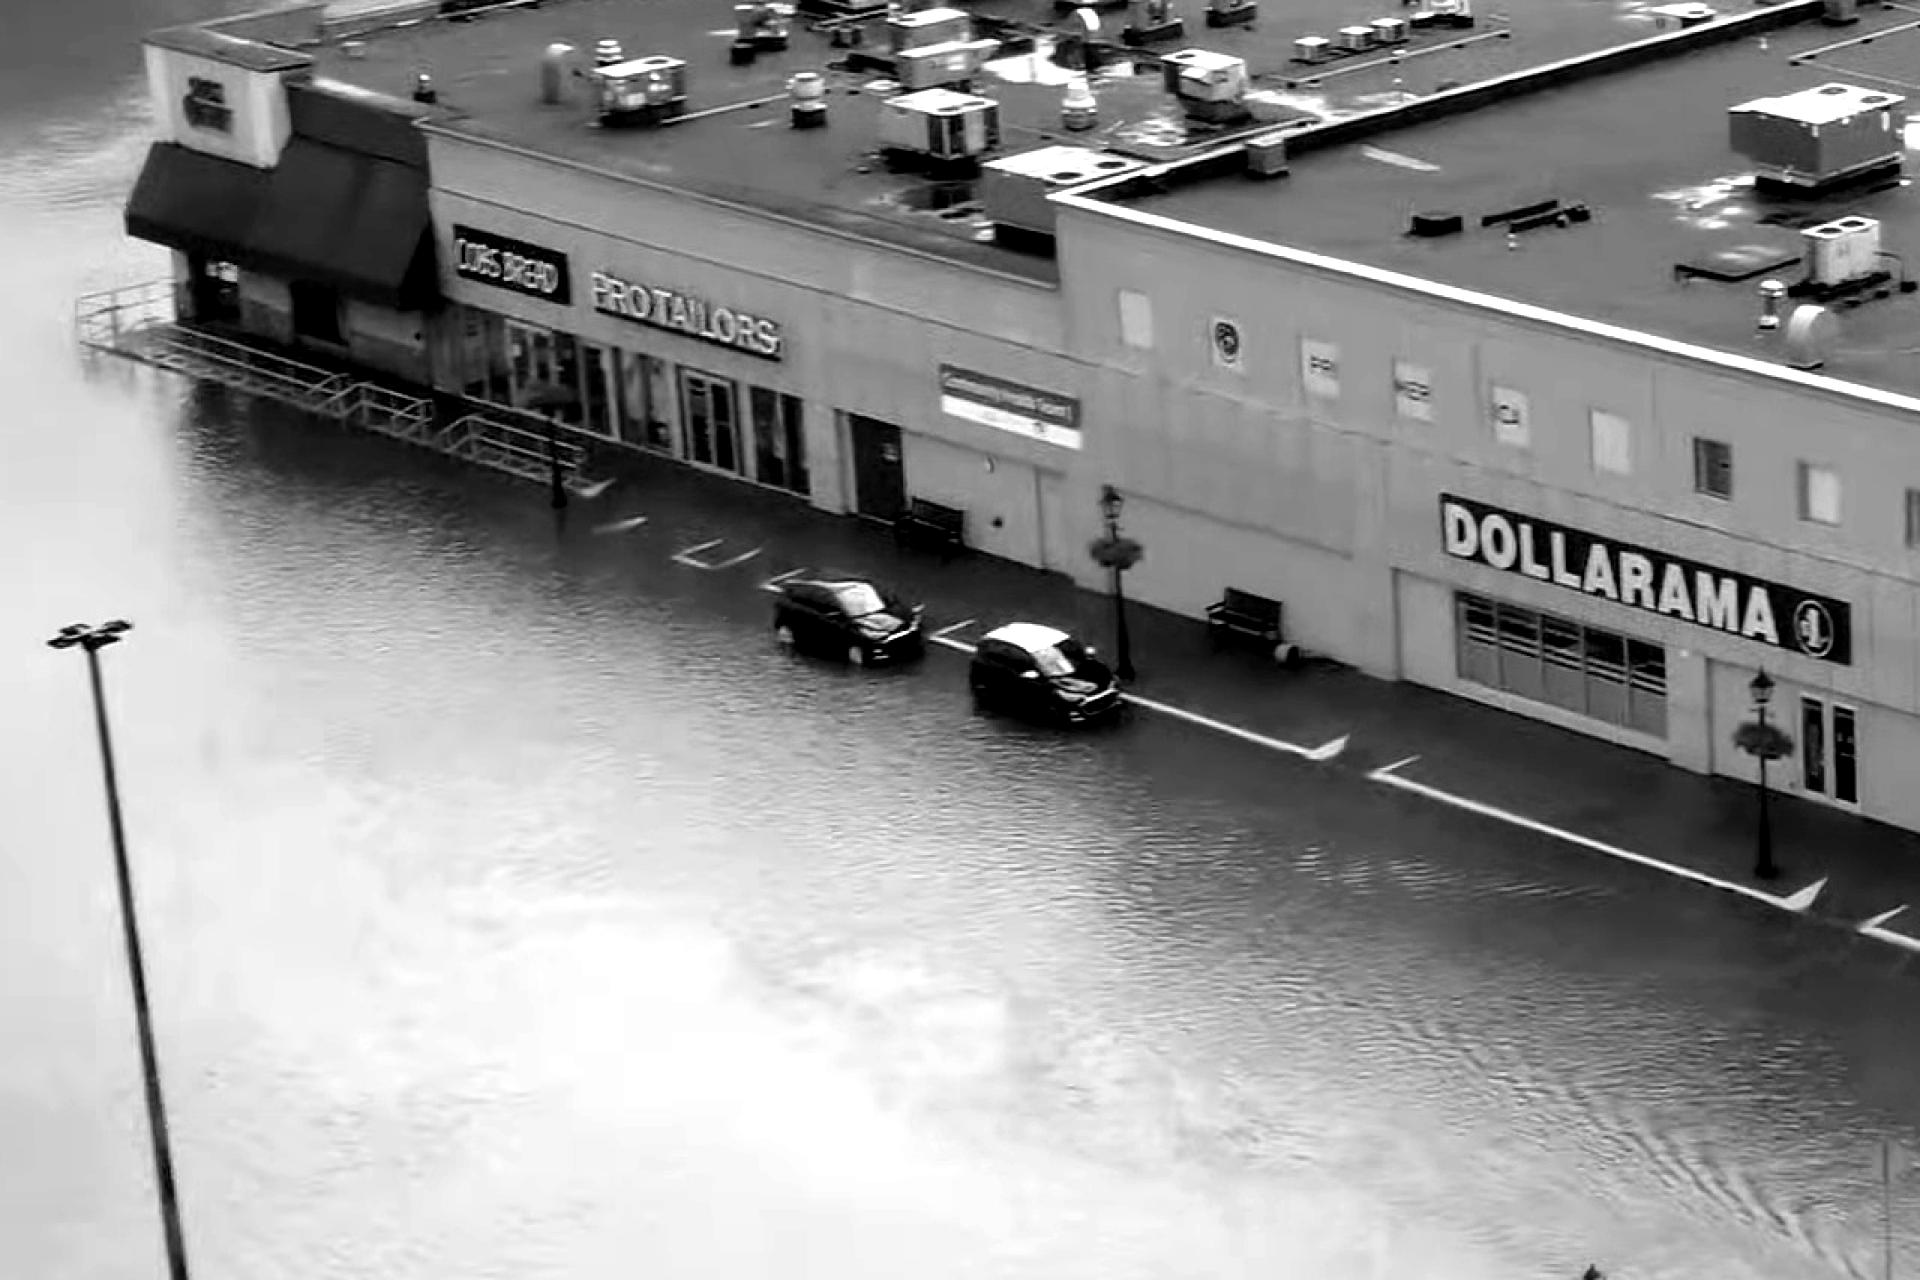Vehicle: (962, 613, 1128, 736), (773, 566, 930, 676)
